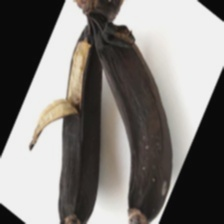banana: (47, 18, 192, 201)
